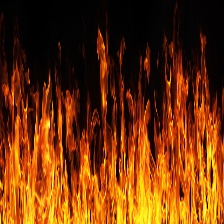fire: (1, 39, 220, 224)
